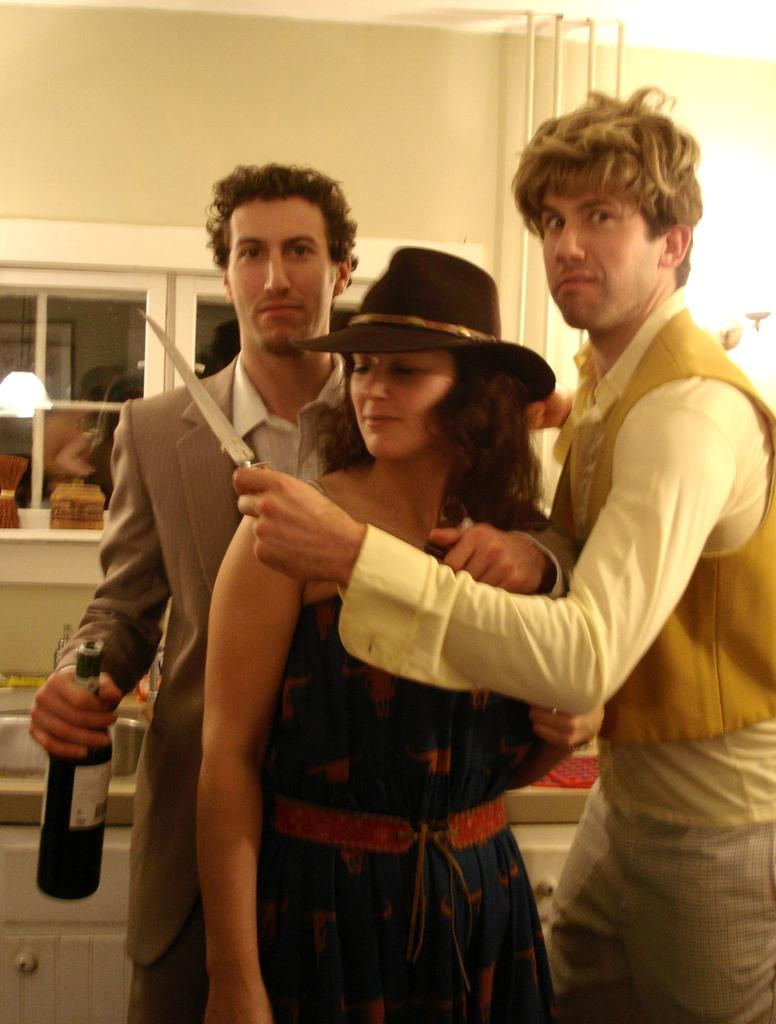Hat: (296, 240, 557, 406)
